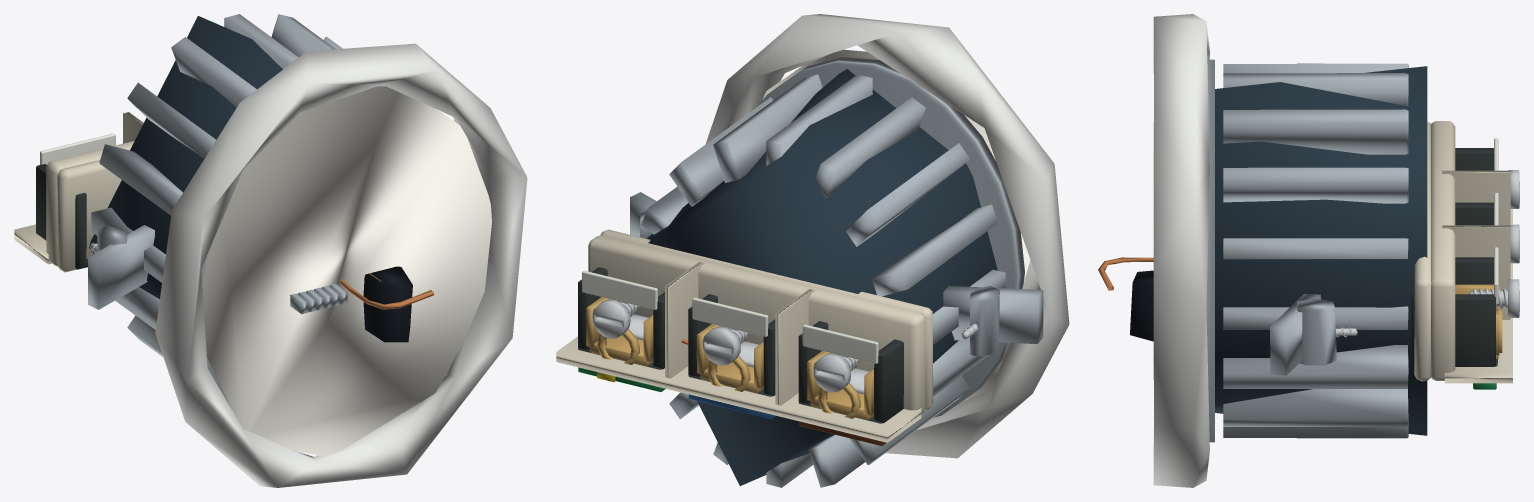
The model's file is lamp_downlight.low.glb.
3 views of the same model, side by side, from view 1: azimuth 30°, elevation 25°; view 2: azimuth 150°, elevation 25°; view 3: azimuth 270°, elevation 25° (orthographic).
Visible parts, largest first — view 1: part:cover, part:body · Original 2a8198d3, part:body, part:terminals · Original 5a609f27, part:mounting · Original 2a8198d3, part:electronics · Original 3ff2d46d, detail:terminal-clamp:L · Detail moulded engineering polymer, part:electronics · Original 2a8198d3, Moulded terminal legend pad, part:electronics · Original db0da9ae; view 2: part:body, part:body · Original 2a8198d3, part:cover, part:terminals · Original 5a609f27, part:mounting · Original 2a8198d3, detail:terminal-clamp:L · Detail moulded engineering polymer, detail:terminal-clamp:PE · Detail machined brass, detail:terminal-clamp:N · Detail machined brass, detail:terminal-clamp:L · Detail machined brass, detail:terminal-clamp:N · Detail moulded engineering polymer, Moulded terminal legend pad, Moulded terminal legend pad.001 (+5 smaller); view 3: part:body · Original 2a8198d3, part:body, part:cover, part:terminals · Original 5a609f27, detail:terminal-clamp:PE · Detail moulded engineering polyme, part:mounting · Original 2a8198d3, part:electronics · Original 3ff2d46d, detail:terminal-clamp:N · Detail moulded engineering polymer, detail:terminal-clamp:L · Detail moulded engineering polymer, detail:terminal-clamp:PE · Detail zinc plated fixing, detail:terminal-clamp:PE · Detail machined brass, part:electronics · Original db0da9ae.
Boxes of the visible parts, box(x1,y1,x2,y2) form: part:cover: box(155, 43, 527, 487); part:body · Original 2a8198d3: box(91, 14, 385, 407); part:body: box(89, 16, 282, 298); part:terminals · Original 5a609f27: box(14, 112, 143, 272); part:mounting · Original 2a8198d3: box(88, 225, 154, 309); part:electronics · Original 3ff2d46d: box(363, 266, 412, 342); detail:terminal-clamp:L · Detail moulded engineering polymer: box(36, 164, 87, 269); part:electronics · Original 2a8198d3: box(290, 283, 347, 314); Moulded terminal legend pad: box(40, 133, 115, 164); part:electronics · Original db0da9ae: box(340, 273, 434, 309); part:body: box(647, 69, 997, 485); part:body · Original 2a8198d3: box(641, 57, 1024, 487); part:cover: box(706, 14, 1069, 458); part:terminals · Original 5a609f27: box(556, 229, 933, 442); part:mounting · Original 2a8198d3: box(630, 192, 1043, 356); detail:terminal-clamp:L · Detail moulded engineering polymer: box(798, 321, 903, 423); detail:terminal-clamp:PE · Detail machined brass: box(586, 297, 653, 366); detail:terminal-clamp:N · Detail machined brass: box(696, 324, 763, 393); detail:terminal-clamp:L · Detail machined brass: box(807, 351, 873, 419); detail:terminal-clamp:N · Detail moulded engineering polymer: box(688, 294, 775, 396); Moulded terminal legend pad: box(802, 324, 878, 363); Moulded terminal legend pad.001: box(692, 297, 768, 336); part:body · Original 2a8198d3: box(1206, 59, 1408, 442); part:body: box(1215, 66, 1427, 435); part:cover: box(1153, 14, 1209, 487); part:terminals · Original 5a609f27: box(1414, 121, 1512, 383); detail:terminal-clamp:PE · Detail moulded engineering polyme: box(1411, 257, 1497, 373); part:mounting · Original 2a8198d3: box(1270, 294, 1336, 375); part:electronics · Original 3ff2d46d: box(1130, 270, 1153, 341); detail:terminal-clamp:N · Detail moulded engineering polymer: box(1455, 202, 1493, 225); detail:terminal-clamp:L · Detail moulded engineering polymer: box(1455, 148, 1493, 170); detail:terminal-clamp:PE · Detail zinc plated fixing: box(1469, 279, 1519, 317); detail:terminal-clamp:PE · Detail machined brass: box(1455, 284, 1502, 359); part:electronics · Original db0da9ae: box(1098, 257, 1153, 290).
Bounding box in the file's own units: 0.6282 × 0.6324 × 0.5558.
